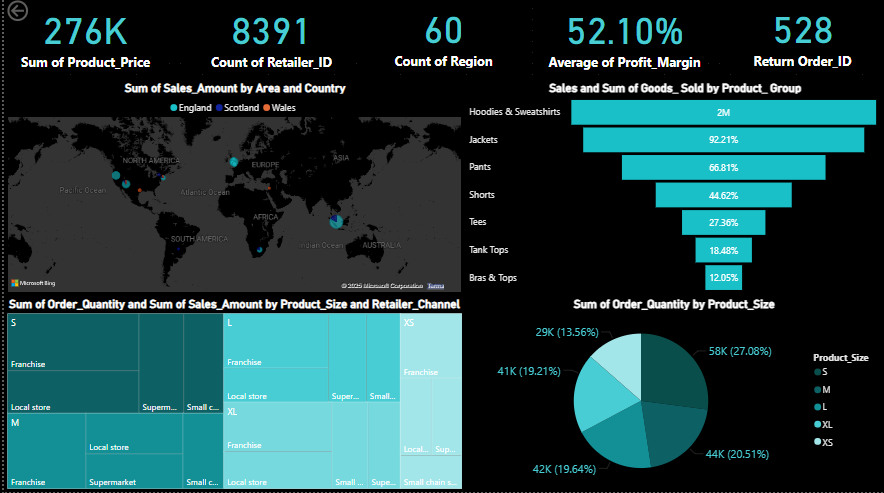

The dashboard page shown, as its layout file describes it:
{"tool":"powerbi","page":{"name":"Oreder","canvas":[1280,720],"ordinal":2},"visuals":[{"type":"treemap","fields":{"Group":["Products4.Product_Size"],"Values":["Sum(Orders3. Order_Quantity )"],"Details":["Retailers2.Retailer_Channel"]},"box":[0,436.4,670.5,283.6],"z":0},{"type":"map","fields":{"Category":["Retailers2.Area"],"Size":["Sum(Orders3.Sales_Amount)"],"Series":["Retailers2.Country"]},"box":[0,120.7,670.5,315.6],"z":1000},{"type":"funnel","title":"Sales and Sum of Goods_ Sold by Product_ Group","fields":{"Category":["Products4.Product_Category"],"Y":["Sum(Orders3.Sales_Amount)"]},"box":[670.5,120.7,609.5,315.6],"z":2000},{"type":"card","fields":{"Values":["CountNonNull(Orders3.Retailer_ID)"]},"box":[270.5,0,237.1,110.5],"z":3000},{"type":"card","fields":{"Values":["Avg(Orders3.Profit_Margin)"]},"box":[784,0,237.1,110.5],"z":4000},{"type":"card","fields":{"Values":["Count(Retailers2.Region)"]},"box":[520.7,0,237.1,107.6],"z":5000},{"type":"card","fields":{"Values":["Sum(Orders3.Product_Price)"]},"box":[0,0,237.1,110.5],"z":6000},{"type":"card","fields":{"Values":["CountNonNull(Returns1.Order_ID)"]},"box":[1042.9,0,237.1,107.6],"z":7000},{"type":"pieChart","fields":{"Category":["Products4.Product_Size"],"Y":["Sum(Orders3. Order_Quantity )"]},"box":[671,437,609,283],"z":8000},{"type":"actionButton","box":[0,0,100,40],"z":9000}]}

Visuals, with their boxes in screenshot pixels (x1, y1, x2, y2), scaled from the page's 1280x720 canvas onto the 884x493 screenshot:
treemap - Products4.Product_Size x Sum(Orders3. Order_Quantity ): [x1=0, y1=299, x2=463, y2=492]
map - Retailers2.Area x Sum(Orders3.Sales_Amount): [x1=0, y1=83, x2=463, y2=299]
"Sales and Sum of Goods_ Sold by Product_ Group" funnel: [x1=463, y1=83, x2=883, y2=299]
card - CountNonNull(Orders3.Retailer_ID): [x1=187, y1=0, x2=351, y2=76]
card - Avg(Orders3.Profit_Margin): [x1=541, y1=0, x2=705, y2=76]
card - Count(Retailers2.Region): [x1=360, y1=0, x2=523, y2=74]
card - Sum(Orders3.Product_Price): [x1=0, y1=0, x2=164, y2=76]
card - CountNonNull(Returns1.Order_ID): [x1=720, y1=0, x2=883, y2=74]
pieChart - Products4.Product_Size x Sum(Orders3. Order_Quantity ): [x1=463, y1=299, x2=883, y2=492]
actionButton: [x1=0, y1=0, x2=69, y2=27]
